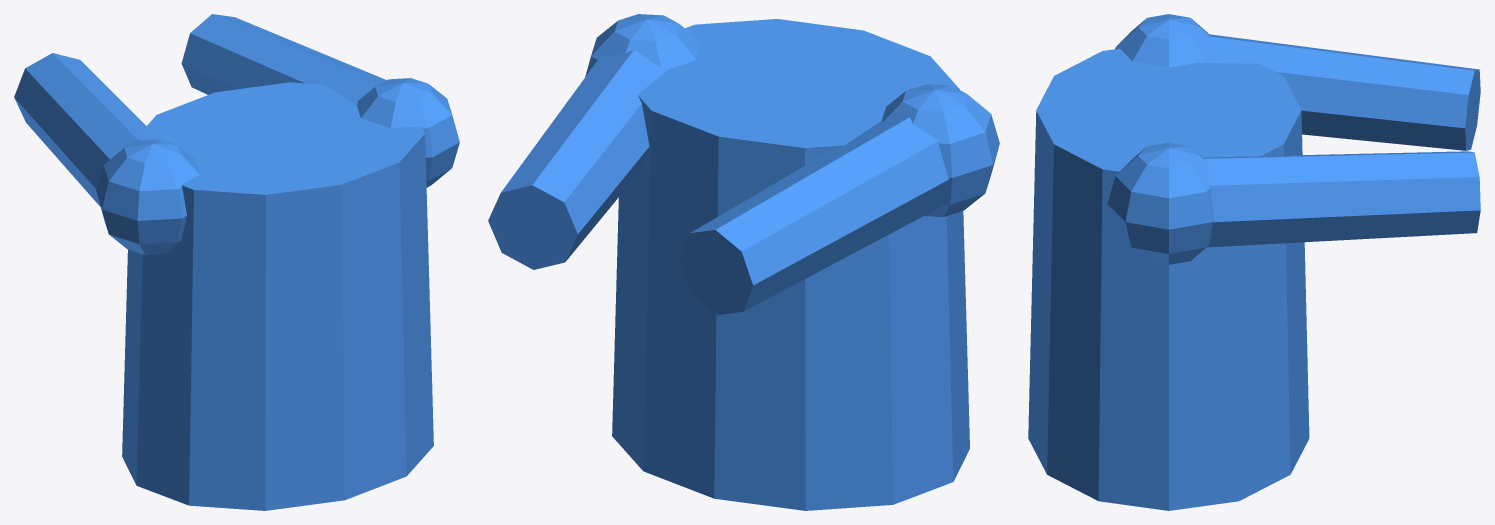
File: player_body_whole.glb
3 renders of one model, left to right at view 1: azimuth 30°, elevation 25°; view 2: azimuth 150°, elevation 25°; view 3: azimuth 270°, elevation 25°, orthographic. The views are drawn at different scales.
Visible parts, largest first — view 1: player_body_whole_0; view 2: player_body_whole_0; view 3: player_body_whole_0.
Part boxes in pixels (left/top/right/bottom): player_body_whole_0: left=14, top=14, right=459, bottom=510; player_body_whole_0: left=488, top=14, right=999, bottom=510; player_body_whole_0: left=1028, top=14, right=1480, bottom=510.
Size of the model in its own units: 0.66 by 0.605 by 0.6993.
